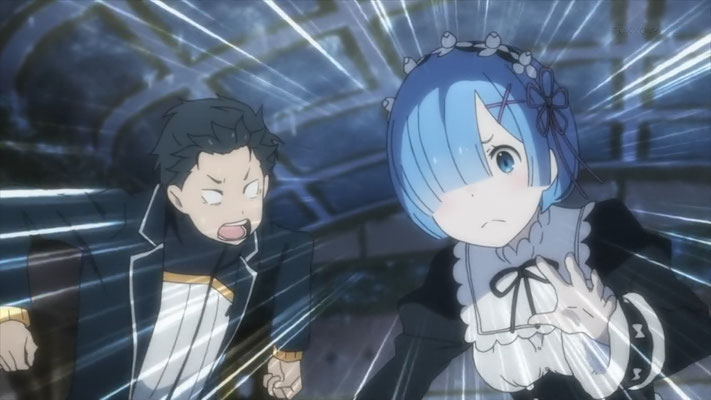rem: (365, 36, 710, 400)
